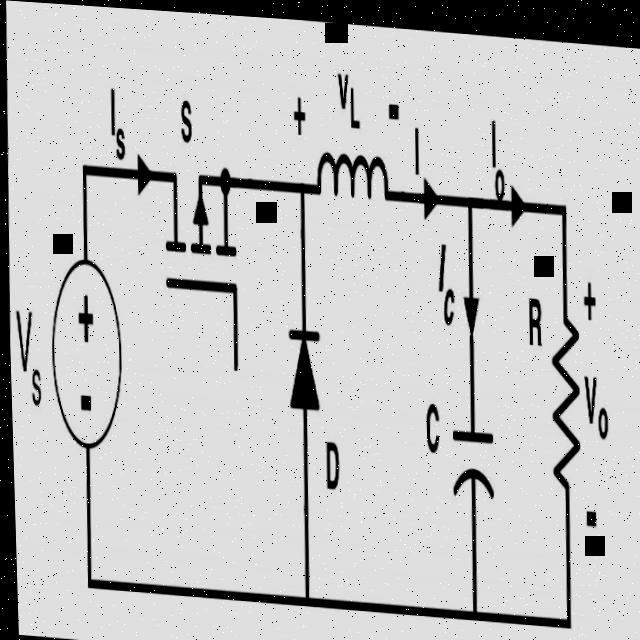capacitor: (439, 380, 501, 522)
diode: (271, 305, 329, 447)
inductor: (307, 117, 400, 231)
mosfet: (150, 130, 257, 385)
node: (214, 151, 233, 209)
resistor: (537, 265, 586, 495)
source: (38, 246, 131, 461)
